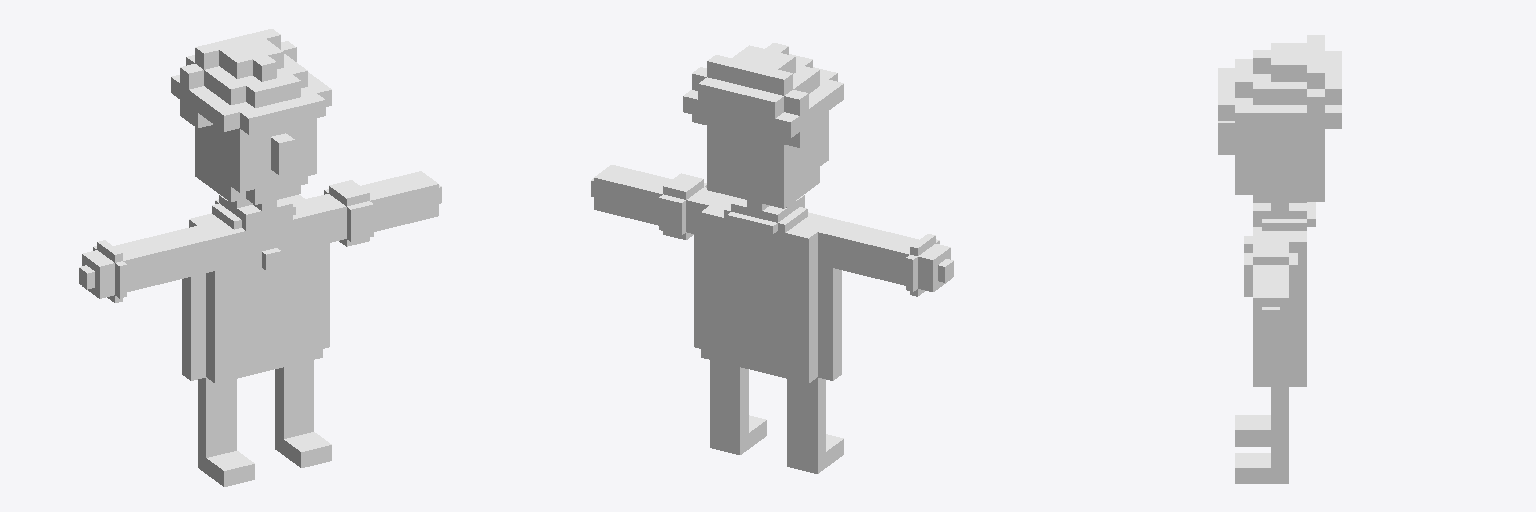
Rendered from Gobelin2.obj.
3 views of the same model, side by side, from view 1: azimuth 30°, elevation 25°; view 2: azimuth 150°, elevation 25°; view 3: azimuth 270°, elevation 25° (orthographic).
Visible parts, largest first — view 1: Gobelin2; view 2: Gobelin2; view 3: Gobelin2.
Boxes of the visible parts, <box> form: Gobelin2: <box>79,29,441,486</box>; Gobelin2: <box>591,43,953,473</box>; Gobelin2: <box>1218,35,1341,483</box>.
Size of the model in its own units: 46 by 50 by 14.